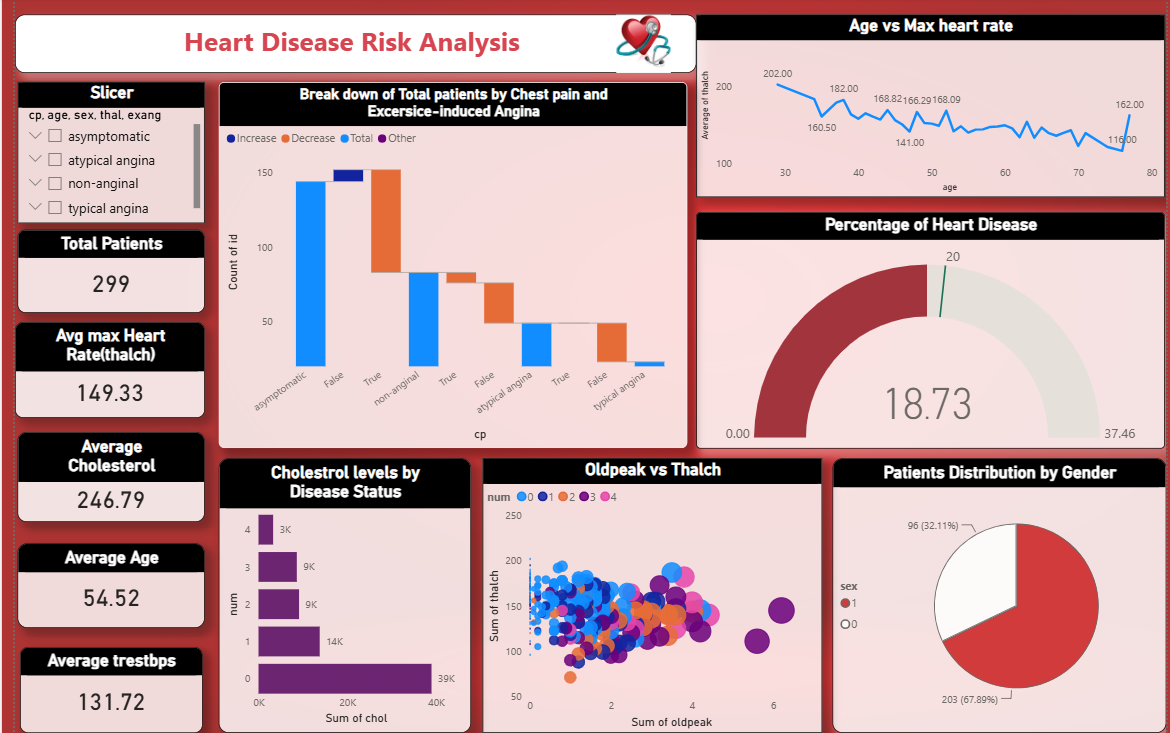

This screenshot's page, from the dashboard's own definition file:
{"tool":"powerbi","page":{"name":"Duplicate of Dax for Kpis","canvas":[1401,896],"ordinal":9},"visuals":[{"type":"textbox","box":[0,21.3,829.4,71.5],"z":0},{"type":"image","box":[730.4,21.3,70,71.5],"z":1000},{"type":"gauge","title":"Percentage of Heart Disease","fields":{"Y":["heart_disease_uci.Heart Disease Percentage"],"TargetValue":["heart_disease_uci.Target heart disease percentage"]},"box":[829.4,261.7,570.7,287.6],"z":2000},{"type":"pieChart","title":"Patients Distribution by Gender","fields":{"Category":["heart_disease_uci.sex"],"Y":["CountNonNull(heart_disease_uci.id)"]},"box":[995.2,561.5,406.3,334.8],"z":3000},{"type":"lineChart","title":"Age vs Max heart rate","fields":{"Category":["heart_disease_uci.age"],"Y":["Avg(heart_disease_uci.thalch)"]},"box":[829.4,21.3,570.7,222.2],"z":4000},{"type":"scatterChart","title":"Oldpeak vs Thalch","fields":{"X":["Sum(heart_disease_uci.oldpeak)"],"Y":["Sum(heart_disease_uci.thalch)"],"Series":["heart_disease_uci.num"],"Category":["heart_disease_uci.id"],"Size":["Sum(heart_disease_uci.oldpeak)"]},"box":[569.1,561.5,413.9,334.8],"z":5000},{"type":"clusteredBarChart","title":"Cholestrol levels by Disease Status","fields":{"Category":["heart_disease_uci.num"],"Y":["Sum(heart_disease_uci.chol)"]},"box":[248,561.5,307.4,334.8],"z":6000},{"type":"slicer","title":"Slicer","fields":{"Values":["heart_disease_uci.cp","heart_disease_uci.age","heart_disease_uci.sex","heart_disease_uci.thal","heart_disease_uci.exang"]},"box":[3,103.5,228.3,172],"z":7000},{"type":"card","title":"Total Patients","fields":{"Values":["CountNonNull(heart_disease_uci.id)"]},"box":[3,283,228.3,102],"z":8000},{"type":"card","title":"Avg max Heart Rate(thalch)","fields":{"Values":["Avg(heart_disease_uci.thalch)"]},"box":[0,395.7,231.3,117.2],"z":9000},{"type":"card","title":"Average Cholesterol","fields":{"Values":["Avg(heart_disease_uci.chol)"]},"box":[3,529.6,228.3,109.6],"z":10000},{"type":"card","title":"Average Age","fields":{"Values":["Avg(heart_disease_uci.age)"]},"box":[3,665,228.3,103.5],"z":11000},{"type":"card","title":"Average trestbps","fields":{"Values":["Avg(heart_disease_uci.trestbps)"]},"box":[6.1,791.3,222.2,105],"z":12000},{"type":"waterfallChart","title":"Break down of Total patients by Chest pain and Excersice-induced Angina","fields":{"Category":["heart_disease_uci.cp"],"Y":["CountNonNull(heart_disease_uci.id)"],"Breakdown":["heart_disease_uci.exang"]},"box":[248,103.5,570.7,445.9],"z":13000}]}

Visuals, with their boxes in screenshot pixels (x1, y1, x2, y2), scaled from the page's 1401x896 canvas onto the 1170x733 screenshot:
textbox: [left=0, top=17, right=693, bottom=76]
image: [left=610, top=17, right=668, bottom=76]
"Percentage of Heart Disease" gauge: [left=693, top=214, right=1169, bottom=449]
"Patients Distribution by Gender" pieChart: [left=831, top=459, right=1169, bottom=732]
"Age vs Max heart rate" lineChart: [left=693, top=17, right=1169, bottom=199]
"Oldpeak vs Thalch" scatterChart: [left=475, top=459, right=821, bottom=732]
"Cholestrol levels by Disease Status" clusteredBarChart: [left=207, top=459, right=464, bottom=732]
"Slicer" slicer: [left=3, top=85, right=193, bottom=225]
"Total Patients" card: [left=3, top=232, right=193, bottom=315]
"Avg max Heart Rate(thalch)" card: [left=0, top=324, right=193, bottom=420]
"Average Cholesterol" card: [left=3, top=433, right=193, bottom=523]
"Average Age" card: [left=3, top=544, right=193, bottom=629]
"Average trestbps" card: [left=5, top=647, right=191, bottom=732]
"Break down of Total patients by Chest pain and Excersice-induced Angina" waterfallChart: [left=207, top=85, right=684, bottom=449]
